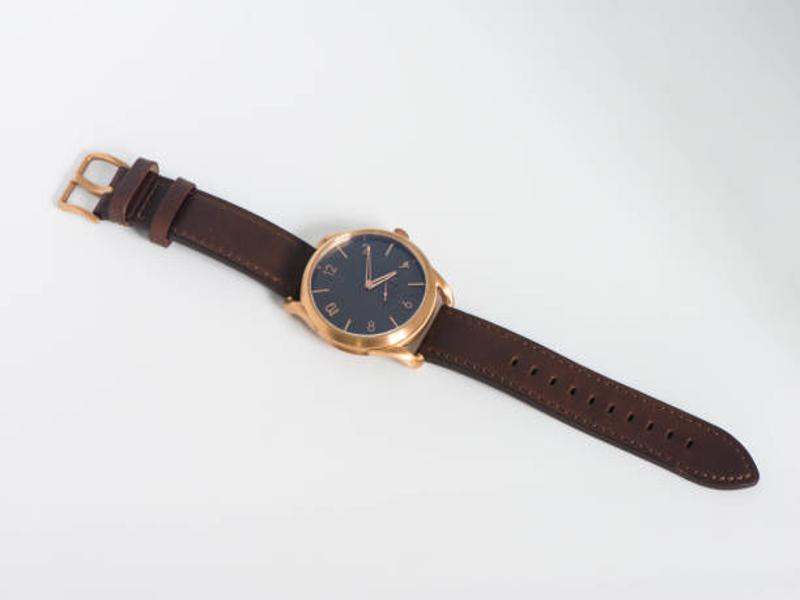watch: (60, 152, 760, 492)
